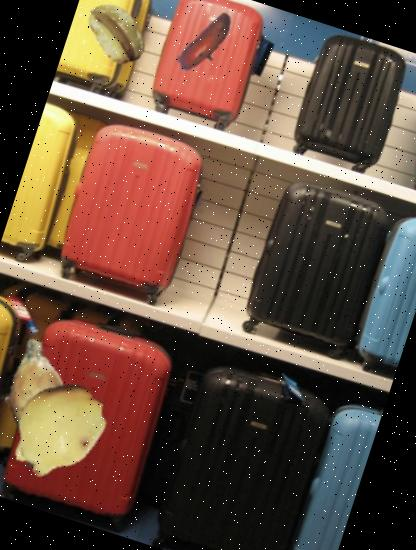Banana: (161, 0, 253, 91)
Cactus: (0, 323, 101, 454)
Carambula: (76, 0, 159, 74)
Quince: (0, 363, 121, 493)
